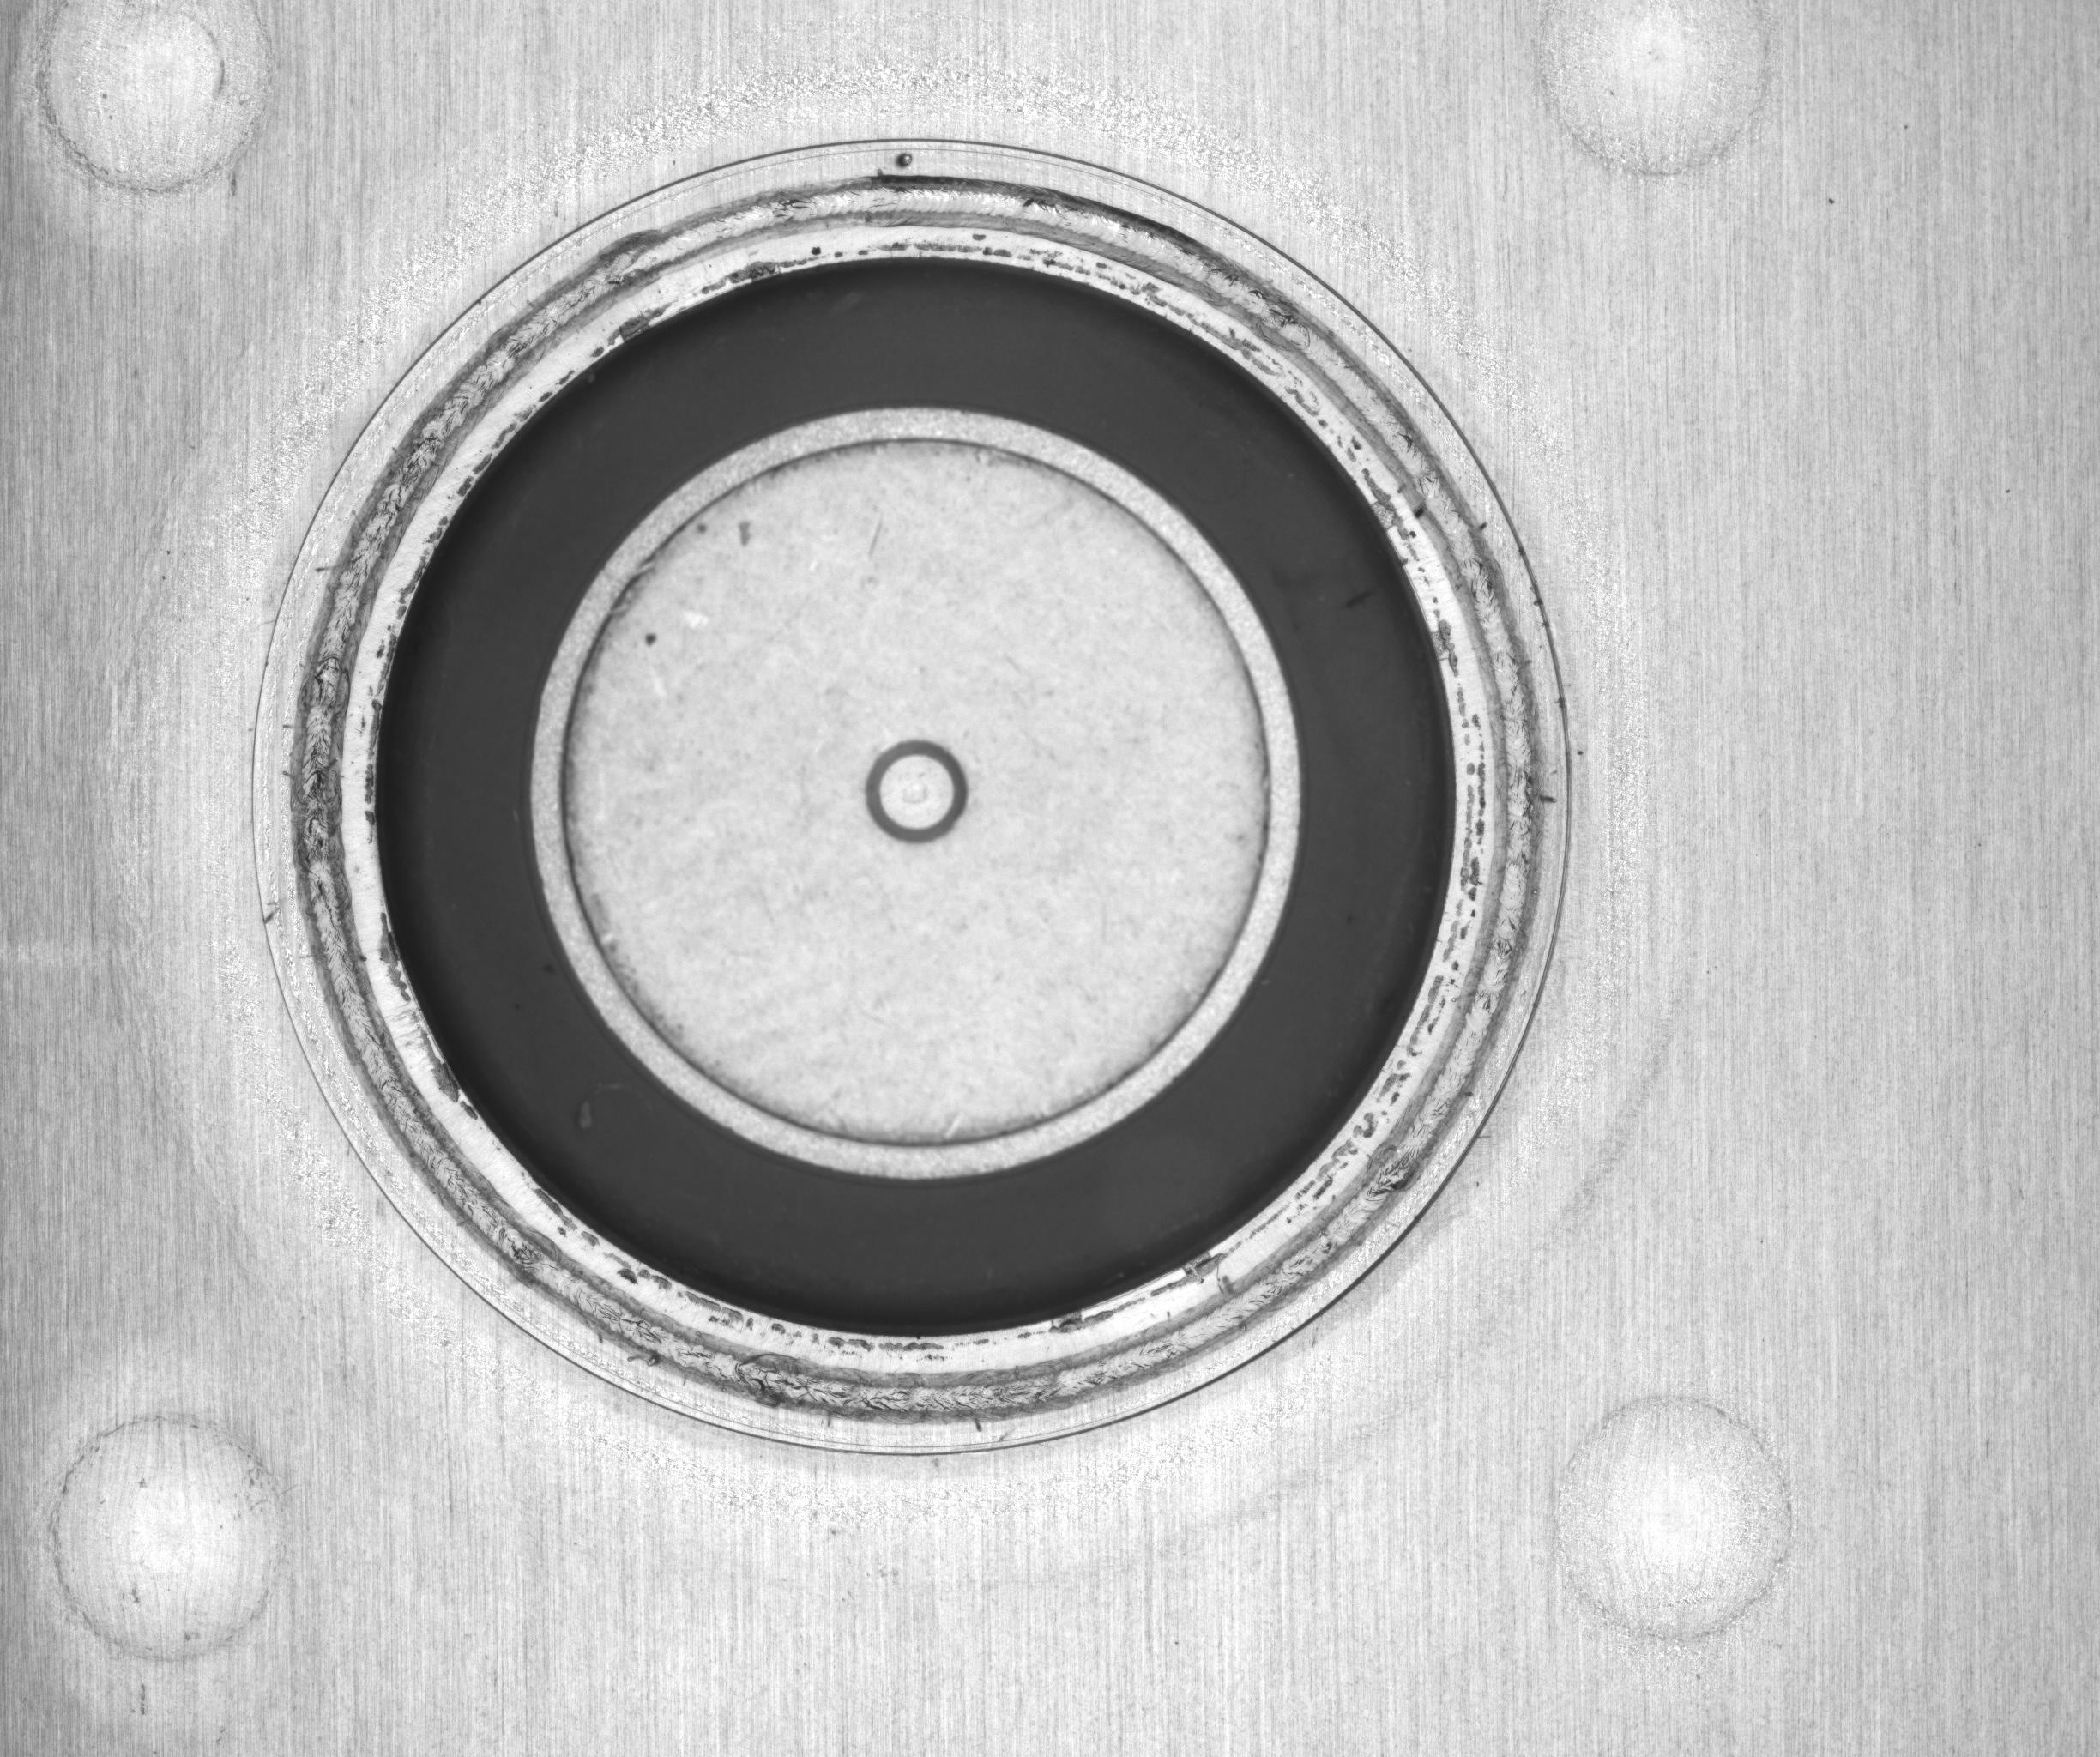weldtoohigh: (234, 99, 1624, 1485)
